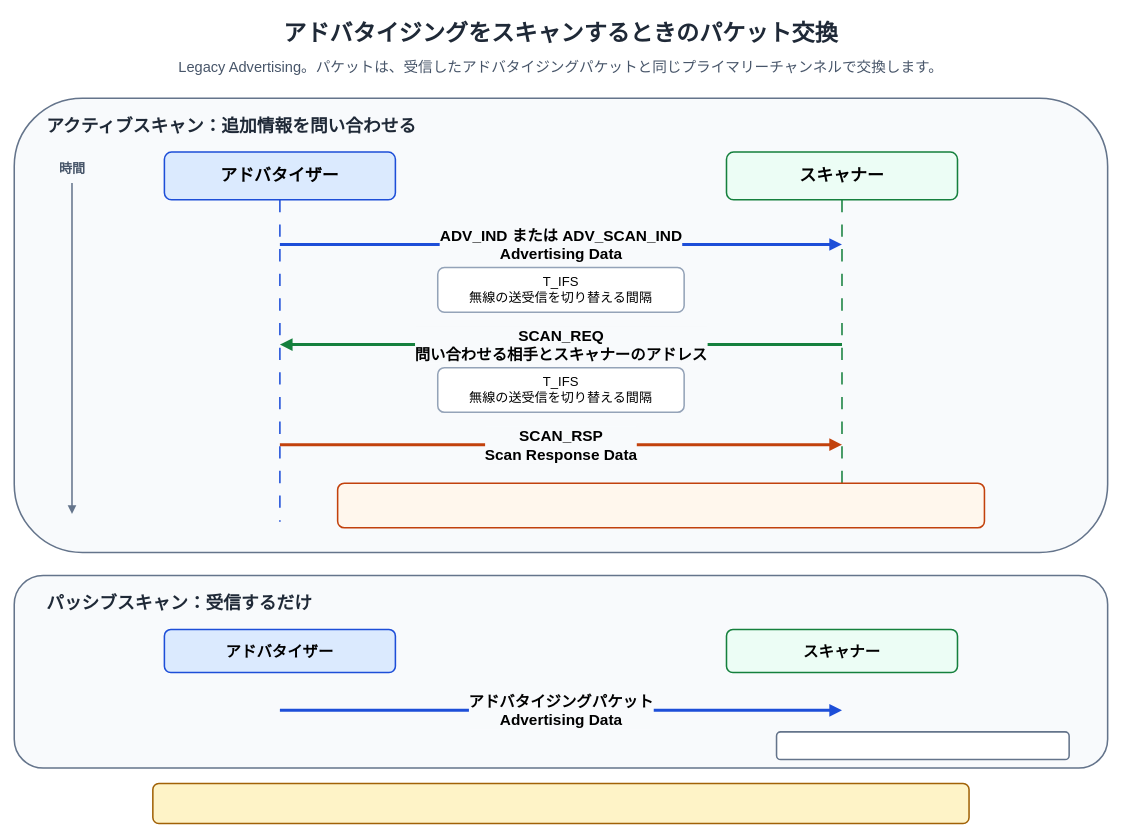
Image size: 1121x837. Some labels were removed from this diagram. Each missing label, with the box of its shape:
SCAN_REQを送らないため、SCAN_RSPも返りません。: (775, 731, 1070, 760)
設計の要点：発見と候補の絞り込みに必須の情報は、最初のAdvertising Dataへ入れます。: (152, 782, 969, 824)
追加情報を得るには、三つのパケットを順に受信・送信できる必要があります。: (336, 482, 985, 528)
